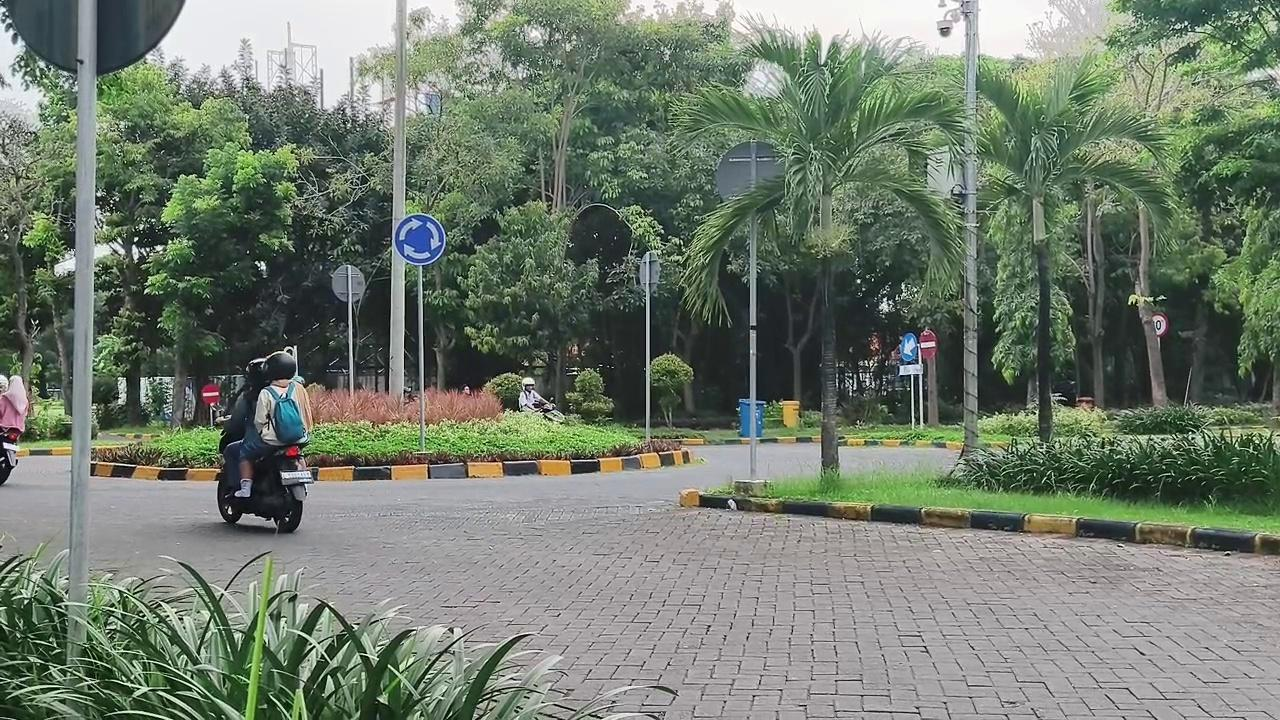Helmet: (230, 351, 313, 497), (219, 358, 266, 477), (518, 377, 545, 411)
Motor: (218, 445, 313, 532), (0, 428, 21, 484), (532, 399, 564, 422)
